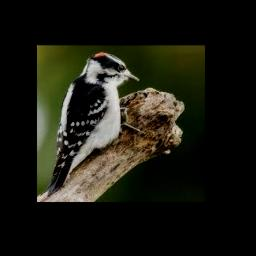Woodpecker: (41, 51, 147, 197)
